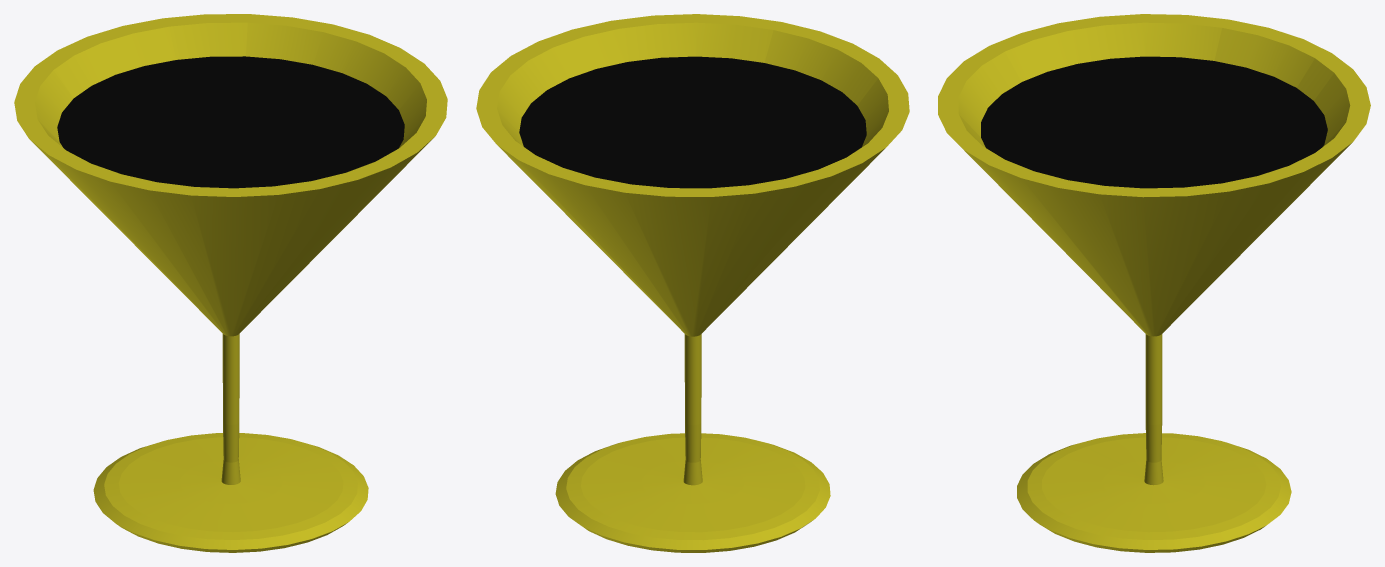
Rendered from Glass1.FBX.
The picture shows the model from 3 angles, left to right: view 1: azimuth 30°, elevation 25°; view 2: azimuth 150°, elevation 25°; view 3: azimuth 270°, elevation 25°; orthographic projection.
Parts seen in each view (by area): view 1: Object001, Object003, Line003; view 2: Object001, Object003, Line003; view 3: Object001, Object003, Line003.
Boxes of the visible parts, <box> form: Object001: <box>14,14,447,336</box>; Object003: <box>57,56,404,188</box>; Line003: <box>93,334,368,552</box>; Object001: <box>476,14,909,336</box>; Object003: <box>519,56,866,188</box>; Line003: <box>555,334,830,552</box>; Object001: <box>938,14,1370,336</box>; Object003: <box>981,56,1327,188</box>; Line003: <box>1017,334,1291,552</box>.
Size of the model in its own units: 69.66 by 69.58 by 69.57.
